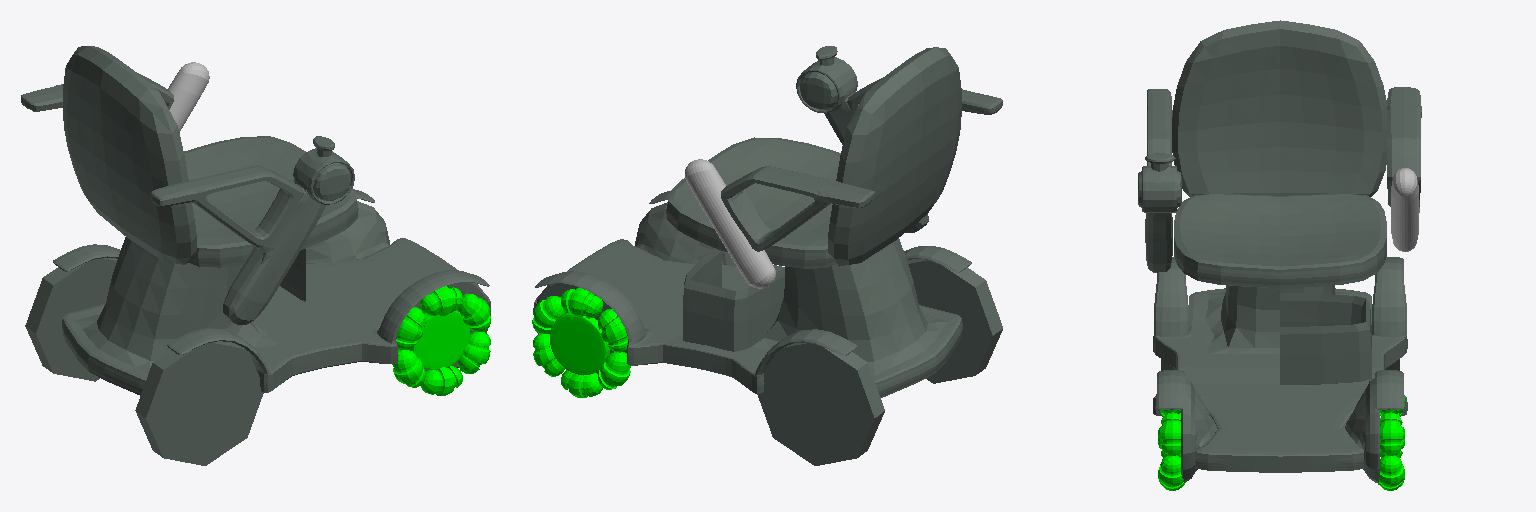
URDF robot description (wheelchair):
<?xml version="1.0" encoding="utf-8"?>
<!-- =================================================================================== -->
<!-- |    This document was autogenerated by xacro from wheelchair.xacro               | -->
<!-- |    EDITING THIS FILE BY HAND IS NOT RECOMMENDED                                 | -->
<!-- =================================================================================== -->
<robot name="wheelchair" xmlns:xacro="http://www.ros.org/wiki/xacro">
  <!-- Base footprint joint -->
  <link name="base_footprint"/>
  <joint name="base_link_joint" type="fixed">
    <parent link="base_footprint"/>
    <child link="base_link"/>
    <origin xyz="0 0 0.100"/>
  </joint>
  <!-- Base Link -->
  <link name="base_link">
    <!-- Base Link visual -->
    <visual>
      <origin rpy="0 0 3.1415" xyz="0.22 0 0.01"/>
      <geometry>
        <mesh filename="package://electric_wheelchair/mesh/base.dae"/>
      </geometry>
    </visual>
    <!-- Base Link collision -->
    <collision>
      <origin rpy="0 0 0" xyz="0.226 0.00 0.150"/>
      <geometry>
        <box size="0.592 0.492 0.300"/>
      </geometry>
    </collision>
    <!-- Base Link inertial -->
    <inertial>
      <origin xyz="0 0 0"/>
      <mass value="48.000"/>
      <inertia ixx="0.051" ixy="0" ixz="0" iyy="0.107" iyz="0" izz="0.106"/>
    </inertial>
  </link>
  <!-- Left wheel -->
  <!-- Left wheel link -->
  <link name="left_wheel_link">
    <!-- Left wheel link visual -->
    <visual>
      <geometry>
        <mesh filename="package://electric_wheelchair/mesh/rearwheel.dae"/>
        <!-- <cylinder radius="0.1325" length="0.055"/> -->
      </geometry>
      <origin rpy="1.5709 0 0" xyz="-0.22 0 -0.25"/>
      <material name="black"/>
    </visual>
    <!-- Left wheel link collision -->
    <collision>
      <geometry>
        <cylinder length="0.05" radius="0.1325"/>
      </geometry>
    </collision>
    <!-- Left wheel link inertial -->
    <inertial>
      <origin xyz="0 0 0"/>
      <mass value="1.000"/>
      <!-- <inertia ixx="0.0013541667" ixy="0" ixz="0" iyy="0.0013541667" iyz="0" izz="0.0025"/> -->
      <inertia ixx="0.004433" ixy="0" ixz="0" iyy="0.004433" iyz="0" izz="0.00845"/>
    </inertial>
  </link>
  <!-- Left wheel joint -->
  <joint name="left_wheel_joint" type="continuous">
    <parent link="base_link"/>
    <child link="left_wheel_link"/>
    <origin rpy="-1.570796 0 0" xyz="0 0.246 0"/>
    <axis xyz="0 0 1"/>
  </joint>
  <!-- Right wheel -->
  <!-- Right wheel link -->
  <link name="right_wheel_link">
    <!-- Right wheel link visual -->
    <visual>
      <geometry>
        <mesh filename="package://electric_wheelchair/mesh/rearwheel.dae"/>
        <!-- <cylinder radius="0.1325" length="0.055"/> -->
      </geometry>
      <origin rpy="1.5709 0 0" xyz="-0.23 0 -0.25"/>
      <material name="black"/>
    </visual>
    <!-- Right wheel link collision -->
    <collision>
      <geometry>
        <cylinder length="0.055" radius="0.1325"/>
      </geometry>
    </collision>
    <!-- Right wheel link inertial -->
    <inertial>
      <origin xyz="0 0 0"/>
      <mass value="1.000"/>
      <!-- <inertia ixx="0.0013541667" ixy="0" ixz="0" iyy="0.0013541667" iyz="0" izz="0.0025"/> -->
      <inertia ixx="0.004433" ixy="0" ixz="0" iyy="0.004433" iyz="0" izz="0.00845"/>
    </inertial>
  </link>
  <!-- Right wheel joint -->
  <joint name="right_wheel_joint" type="continuous">
    <parent link="base_link"/>
    <child link="right_wheel_link"/>
    <origin rpy="1.5707 0 0" xyz="0 -0.246 0"/>
    <axis xyz="0 0 -1"/>
  </joint>
  <!-- Left caster -->
  <!-- Left caster link -->
  <link name="left_caster_link">
    <!-- Left caster link visual -->
    <visual>
      <geometry>
        <mesh filename="package://electric_wheelchair/mesh/frontwheel.dae"/>
        <!-- <cylinder radius="0.127" length="0.055"/> -->
      </geometry>
      <origin rpy="1.5707 0 0" xyz="0.36 0 0.24"/>
      <!-- <origin xyz="0 0 0" rpy="1.5707 0 0"/> -->
      <material name="green">
        <color rgba="0 1 0 1"/>
      </material>
    </visual>
    <!-- Left caster link collision -->
    <collision>
      <geometry>
        <cylinder length="0.055" radius="0.127"/>
      </geometry>
    </collision>
    <!-- Left caster link inertial -->
    <inertial>
      <origin xyz="0 0 0"/>
      <mass value="1.000"/>
      <inertia ixx="0.004433" ixy="0" ixz="0" iyy="0.004433" iyz="0" izz="0.0007812"/>
    </inertial>
  </link>
  <!-- Left caster joint -->
  <joint name="left_caster_joint" type="continuous">
    <parent link="base_link"/>
    <child link="left_caster_link"/>
    <origin rpy="1.5707 0 0" xyz="0.592 0.246 0"/>
    <axis xyz="0 0 1"/>
  </joint>
  <!-- Right caster -->
  <!-- Right caster link -->
  <link name="right_caster_link">
    <!-- Right caster link visual -->
    <visual>
      <geometry>
        <mesh filename="package://electric_wheelchair/mesh/frontwheel.dae"/>
        <!-- <cylinder radius="0.127" length="0.055"/> -->
      </geometry>
      <origin rpy="1.5707 0 0" xyz="0.36 0 0.23"/>
      <!-- <origin xyz="0 0 0" rpy="1.5707 0 0"/> -->
      <material name="green">
        <color rgba="0 1 0 1"/>
      </material>
    </visual>
    <!-- Right caster link collision -->
    <collision>
      <geometry>
        <cylinder length="0.055" radius="0.127"/>
      </geometry>
    </collision>
    <!-- Right caster link inertial -->
    <inertial>
      <origin xyz="0 0 0"/>
      <mass value="1.000"/>
      <inertia ixx="0.004433" ixy="0" ixz="0" iyy="0.004433" iyz="0" izz="0.0007812"/>
    </inertial>
  </link>
  <!-- Right caster joint -->
  <joint name="right_caster_joint" type="continuous">
    <parent link="base_link"/>
    <child link="right_caster_link"/>
    <origin rpy="1.5707 0 0" xyz="0.592 -0.246 0"/>
    <axis xyz="0 0 1"/>
  </joint>
  <!-- ===============  Transmission =============== -->
  <transmission name="left_wheel_trans">
    <type>transmission_interface/SimpleTransmission</type>
    <joint name="left_wheel_joint">
      <hardwareInterface>hardware_interface/VelocityJointInterface</hardwareInterface>
    </joint>
    <actuator name="left_wheel_motor">
      <hardwareInterface>hardware_interface/VelocityJointInterface</hardwareInterface>
      <mechanicalReduction>30</mechanicalReduction>
    </actuator>
  </transmission>
  <transmission name="right_wheel_trans">
    <type>transmission_interface/SimpleTransmission</type>
    <joint name="right_wheel_joint">
      <hardwareInterface>hardware_interface/VelocityJointInterface</hardwareInterface>
    </joint>
    <actuator name="right_wheel_motor">
      <hardwareInterface>hardware_interface/VelocityJointInterface</hardwareInterface>
      <mechanicalReduction>30</mechanicalReduction>
    </actuator>
  </transmission>
  <!-- =============== Gazebo =============== -->
  <gazebo>
    <plugin filename="libgazebo_ros_control.so" name="gazebo_ros_control">
      <robotNamespace>wheelchair</robotNamespace>
    </plugin>
  </gazebo>
  <gazebo reference="base_link">
    <selfCollide>true</selfCollide>
    <mu1 value="0.05"/>
    <mu2 value="0.05"/>
  </gazebo>
  <gazebo reference="left_wheel_link">
    <selfCollide>true</selfCollide>
    <mu1 value="0.8"/>
    <mu2 value="0.8"/>
  </gazebo>
  <gazebo reference="right_wheel_link">
    <selfCollide>true</selfCollide>
    <mu1 value="0.8"/>
    <mu2 value="0.8"/>
  </gazebo>
  <gazebo reference="left_caster_link">
    <selfCollide>true</selfCollide>
    <!-- This caster is no frictional resistance. -->
    <mu1 value="0.8"/>
    <mu2 value="0.8"/>
  </gazebo>
  <gazebo reference="right_caster_link">
    <selfCollide>true</selfCollide>
    <!-- This caster is no frictional resistance. -->
    <mu1 value="0.8"/>
    <mu2 value="0.8"/>
  </gazebo>
  <joint name="velodyne_base_mount_joint" type="fixed">
    <origin rpy="0 0 0" xyz="0 0 1"/>
    <parent link="base_link"/>
    <child link="velodyne_base_link"/>
  </joint>
  <link name="velodyne_base_link">
    <inertial>
      <mass value="0.83"/>
      <origin xyz="0 0 0.03585"/>
      <inertia ixx="0.000908059425" ixy="0" ixz="0" iyy="0.000908059425" iyz="0" izz="0.0011049624"/>
    </inertial>
    <visual>
      <geometry>
        <mesh filename="package://velodyne_description/meshes/VLP16_base_1.dae"/>
      </geometry>
    </visual>
    <visual>
      <geometry>
        <mesh filename="package://velodyne_description/meshes/VLP16_base_2.dae"/>
      </geometry>
    </visual>
    <collision>
      <origin rpy="0 0 0" xyz="0 0 0.03585"/>
      <geometry>
        <cylinder length="0.0717" radius="0.0516"/>
      </geometry>
    </collision>
  </link>
  <joint name="velodyne_base_scan_joint" type="fixed">
    <origin rpy="0 0 0" xyz="0 0 0.0377"/>
    <parent link="velodyne_base_link"/>
    <child link="velodyne"/>
  </joint>
  <link name="velodyne">
    <inertial>
      <mass value="0.01"/>
      <origin xyz="0 0 0"/>
      <inertia ixx="1e-7" ixy="0" ixz="0" iyy="1e-7" iyz="0" izz="1e-7"/>
    </inertial>
    <visual>
      <origin xyz="0 0 -0.0377"/>
      <geometry>
        <mesh filename="package://velodyne_description/meshes/VLP16_scan.dae"/>
      </geometry>
    </visual>
  </link>
  <!-- Gazebo requires the velodyne_gazebo_plugins package -->
  <gazebo reference="velodyne">
    <sensor name="velodyne-VLP16" type="ray">
      <pose>0 0 0 0 0 0</pose>
      <visualize>false</visualize>
      <update_rate>10</update_rate>
      <ray>
        <scan>
          <horizontal>
            <samples>440</samples>
            <resolution>1</resolution>
            <min_angle>-3.14159265359</min_angle>
            <max_angle>3.14159265359</max_angle>
          </horizontal>
          <vertical>
            <samples>16</samples>
            <resolution>1</resolution>
            <min_angle>-0.261799387799</min_angle>
            <max_angle> 0.261799387799</max_angle>
          </vertical>
        </scan>
        <range>
          <min>0.3</min>
          <max>131.0</max>
          <resolution>0.001</resolution>
        </range>
        <noise>
          <type>gaussian</type>
          <mean>0.0</mean>
          <stddev>0.0</stddev>
        </noise>
      </ray>
      <plugin filename="libgazebo_ros_velodyne_laser.so" name="gazebo_ros_laser_controller">
        <topicName>/velodyne_points</topicName>
        <frameName>velodyne</frameName>
        <min_range>0.9</min_range>
        <max_range>130.0</max_range>
        <gaussianNoise>0.008</gaussianNoise>
      </plugin>
    </sensor>
  </gazebo>
</robot>

--- Facts derived from the render (not from the file) ---
The picture shows the robot from 3 angles, left to right: view 1: azimuth 30°, elevation 25°; view 2: azimuth 150°, elevation 25°; view 3: azimuth 270°, elevation 25°; orthographic projection.
Robot: wheelchair — 8 links, 7 joints (4 continuous, 3 fixed); root link base_footprint; default pose: every joint at zero.
Links seen in each view (by area): view 1: base_link, right_wheel_link, right_caster_link, left_wheel_link; view 2: base_link, left_wheel_link, left_caster_link, right_wheel_link; view 3: base_link, left_caster_link, right_caster_link.
Boxes of the visible links, x1=… form: base_link: x1=21, y1=46, x2=490, y2=395; right_wheel_link: x1=135, y1=341, x2=263, y2=465; right_caster_link: x1=392, y1=286, x2=490, y2=395; left_wheel_link: x1=25, y1=258, x2=117, y2=381; base_link: x1=533, y1=46, x2=1002, y2=397; left_wheel_link: x1=757, y1=343, x2=884, y2=465; left_caster_link: x1=532, y1=288, x2=630, y2=397; right_wheel_link: x1=907, y1=259, x2=1002, y2=383; base_link: x1=1138, y1=20, x2=1421, y2=482; left_caster_link: x1=1378, y1=396, x2=1404, y2=490; right_caster_link: x1=1158, y1=410, x2=1185, y2=490.
Size in the robot's own frame: 0.906 by 0.6297 by 0.8543 metres.
5 mesh visuals loaded from 6 distinct referenced files (3 Collada DAE); not drawn: 3 (reference not matched to a file when rendering).
